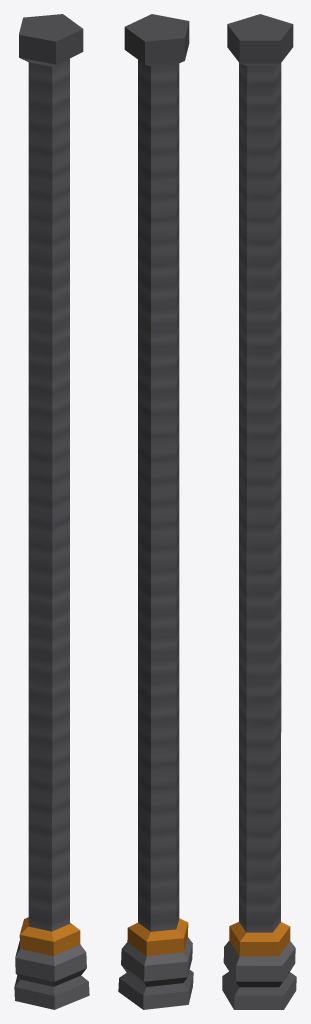
File: SM_Prop_Wires_03.fbx
3 renders of one model, left to right at view 1: azimuth 30°, elevation 25°; view 2: azimuth 210°, elevation 25°; view 3: azimuth 270°, elevation 25°, orthographic.
Parts seen in each view (by area): view 1: SM_Prop_Wires_03; view 2: SM_Prop_Wires_03; view 3: SM_Prop_Wires_03.
Part boxes in pixels (x1=…): SM_Prop_Wires_03: x1=14, y1=14, x2=89, y2=1009; SM_Prop_Wires_03: x1=118, y1=14, x2=193, y2=1009; SM_Prop_Wires_03: x1=222, y1=14, x2=296, y2=1009.
Bounding box in the file's own units: 6.79 × 101 × 7.05.
